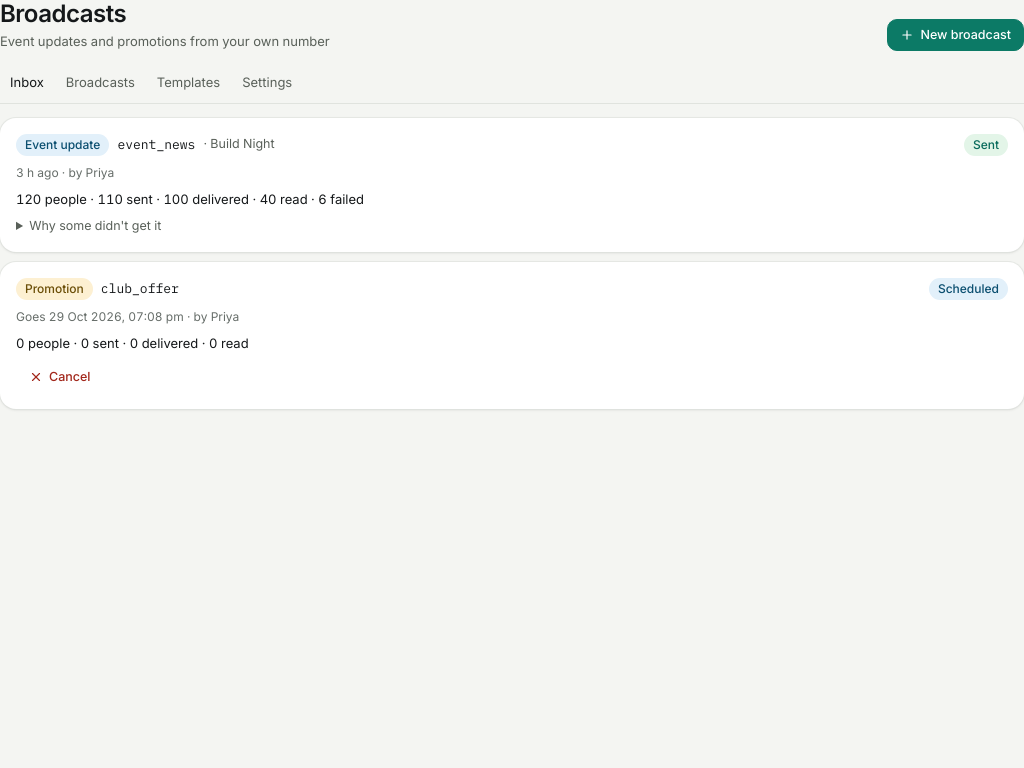
Test: broadcasts › shows the server's refusal beside the value it is about
Click the button "New broadcast" at (956, 35), box 887,19 -> 1023,51
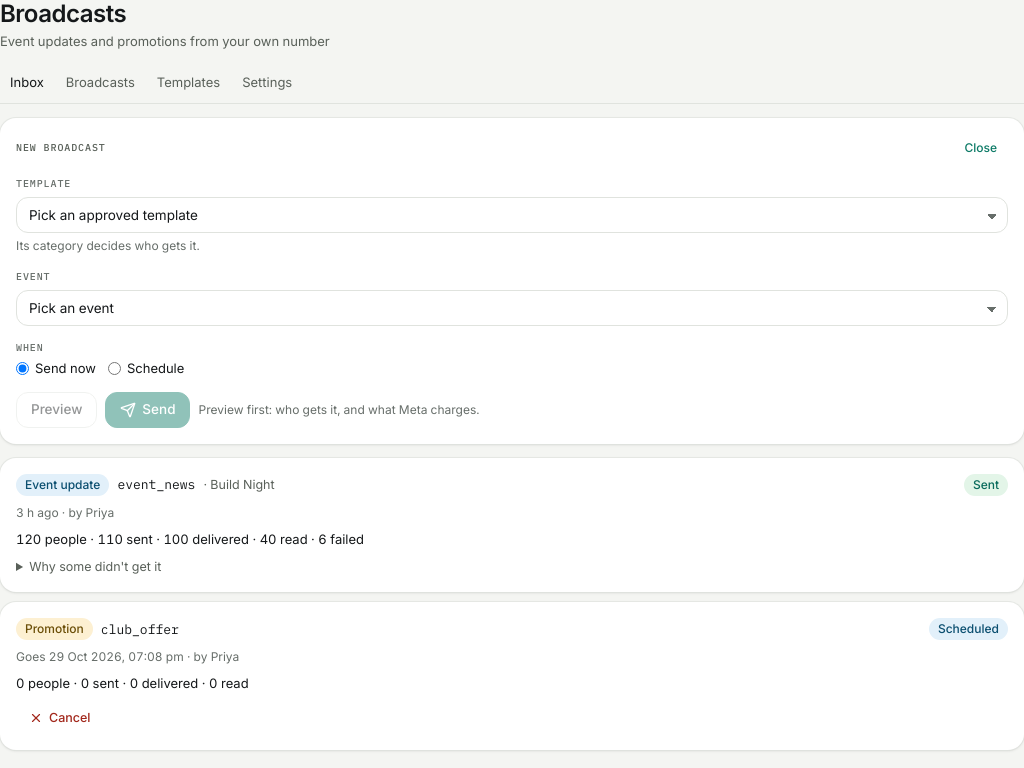
Select "event_news (en) · event update" in the dropdown labelled "Template" at (512, 215), box 16,197 -> 1008,233
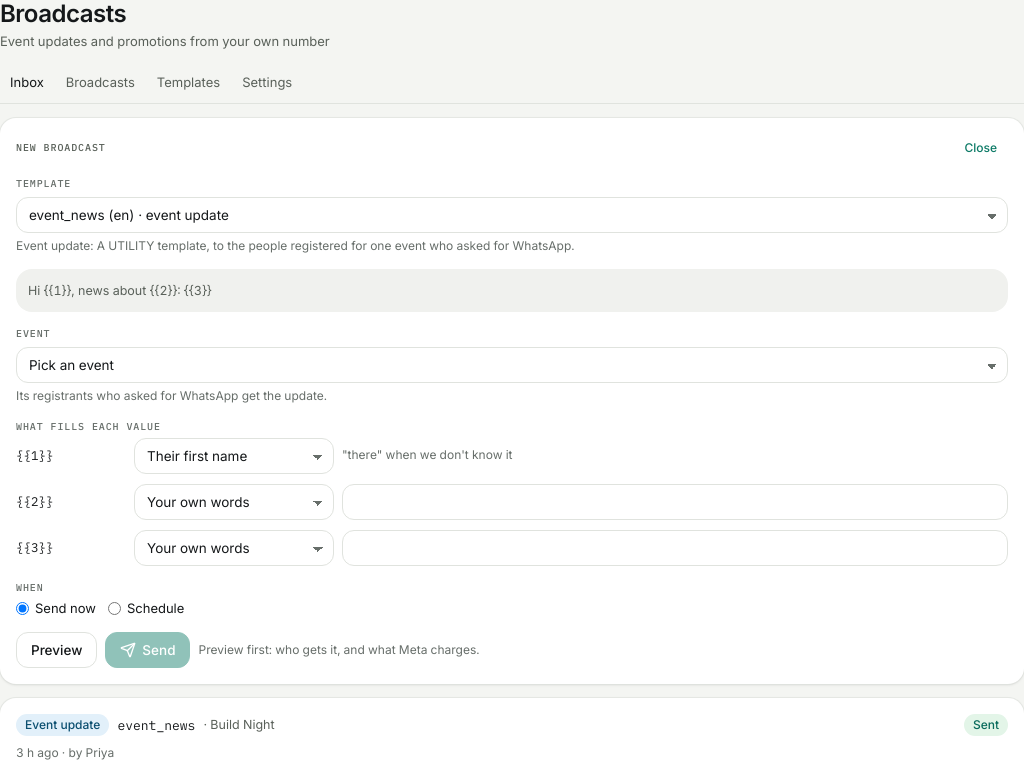
Select "Build Night · 31 Oct 2026, 02:08 pm" in the dropdown labelled "Event" at (512, 365), box 16,347 -> 1008,383
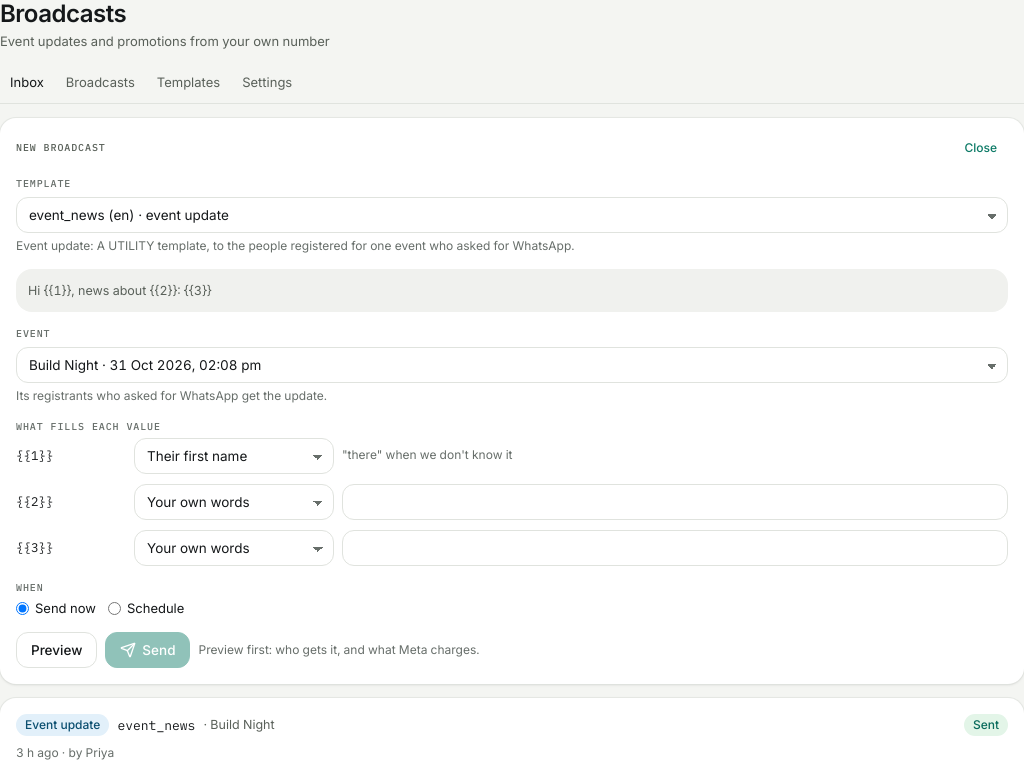
Click the button "Preview" at (57, 650), box 16,632 -> 97,668
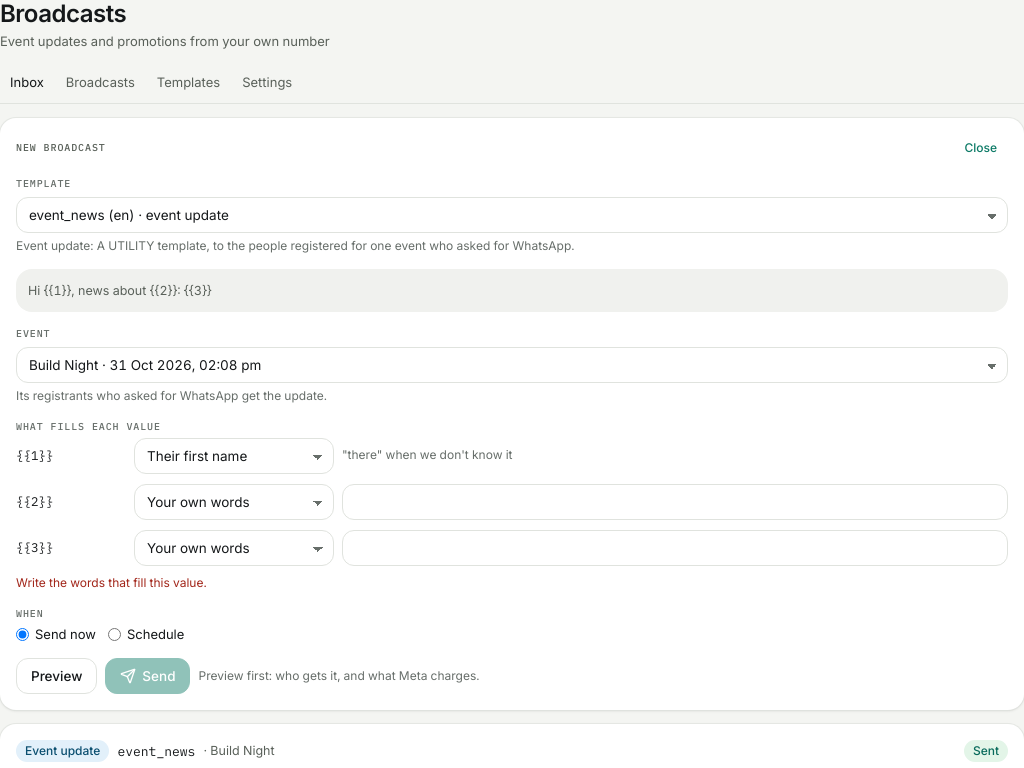
Now the text "Write the words that fill this value." is shown, box 16,575 -> 207,590
